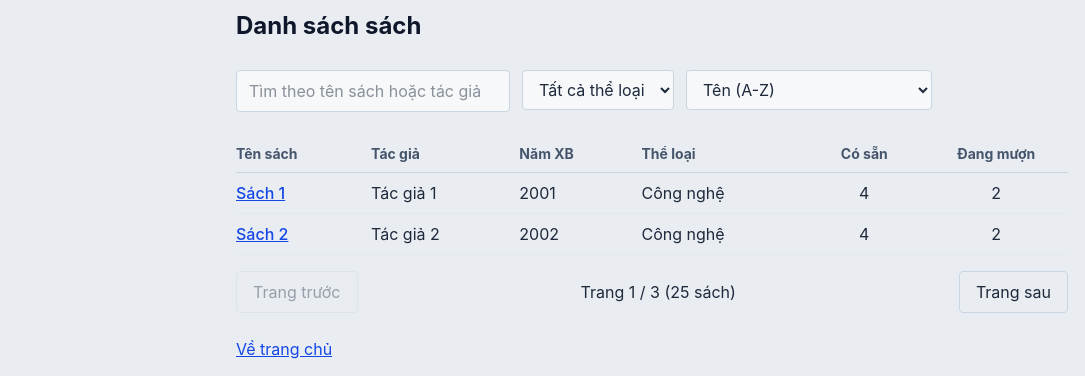
Test: BookList › drops the previous results when a reload fails, so stale rows are not shown
Expected: the table is shown, [236,136,1068,255]
Select "Năm xuất bản (mới nhất)" in the 2nd dropdown named "Sắp xếp" at [809, 90], box [686,70,932,110]
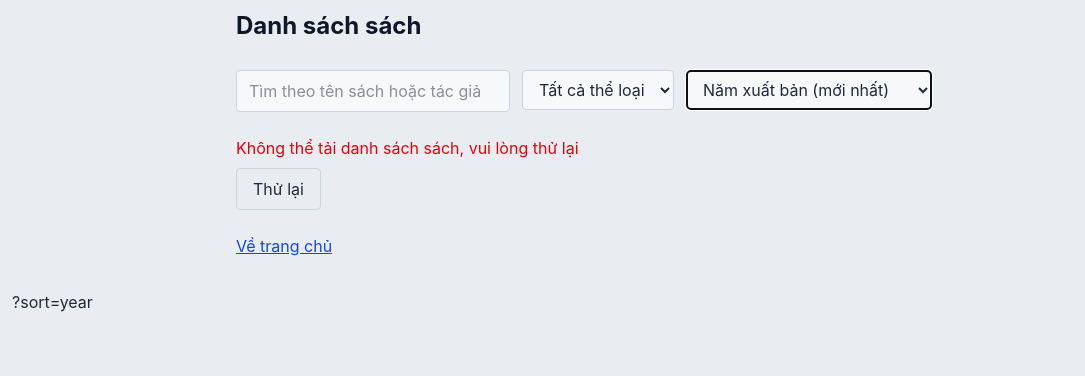
Result: the text "Không thể tải danh sách sách, vui lòng thử lại" is shown at [236,138,578,158]
Result: the link "Sách 1" is gone
